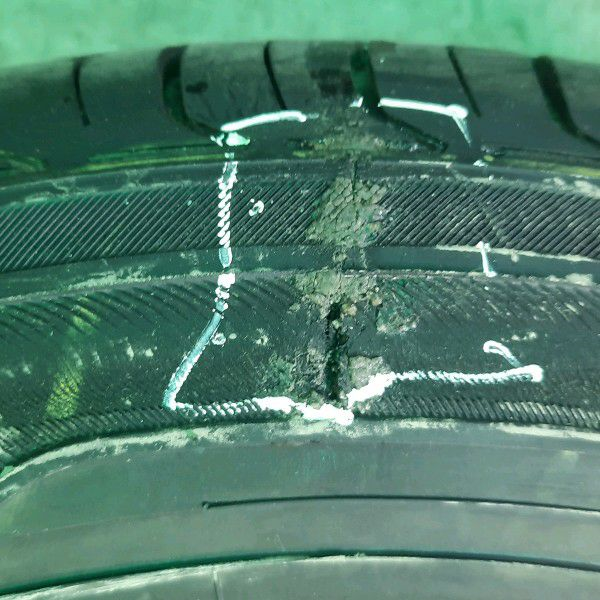cut: (321, 299, 352, 415)
